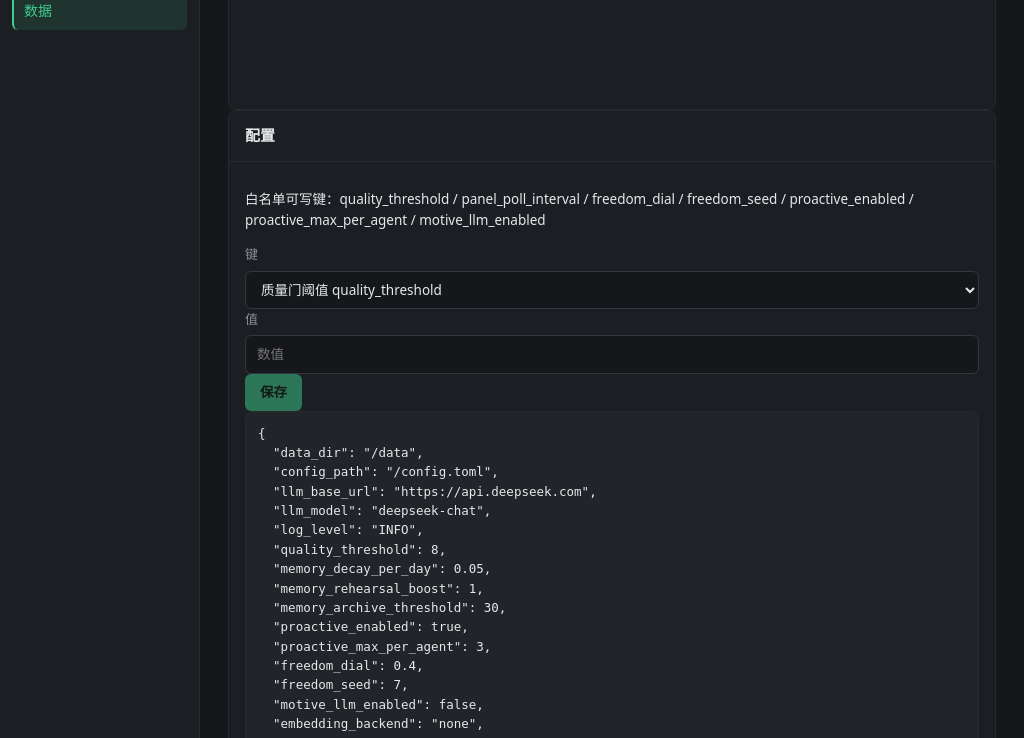
it: data page › saves a whitelisted config key and shows the restart hint
The image size is (1024, 738).
(page scrolled)
Type "9" into the field with placeholder "数值" at {"x": 612, "y": 354}, box [245, 335, 979, 374]
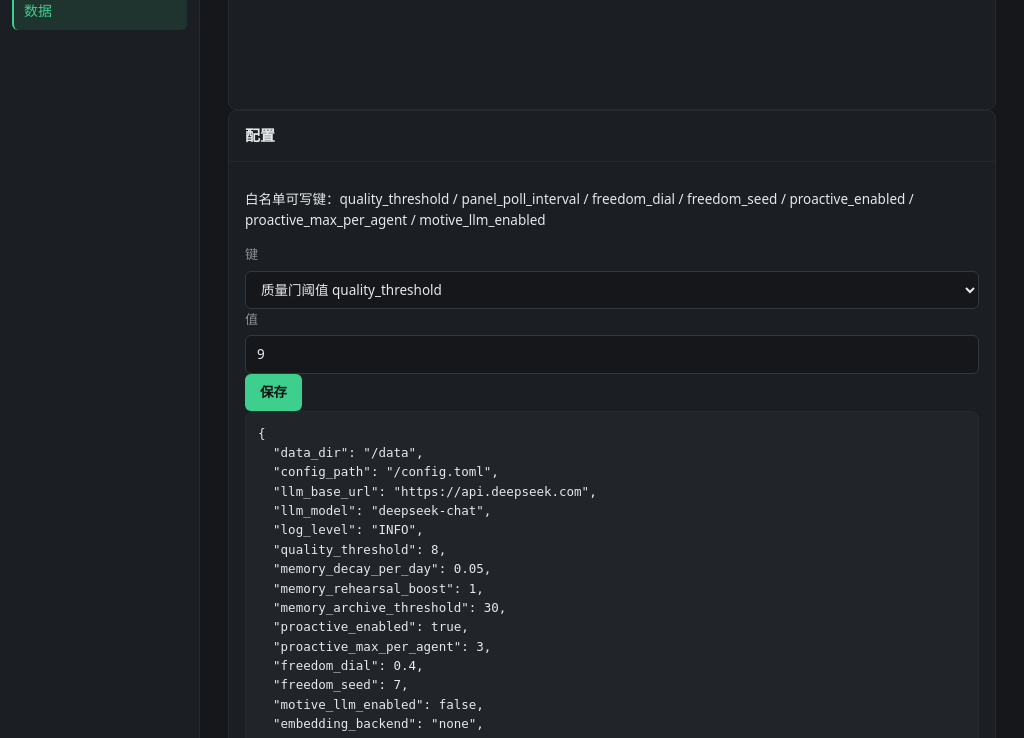
Click the button "保存" at {"x": 274, "y": 392}, box [245, 374, 302, 410]
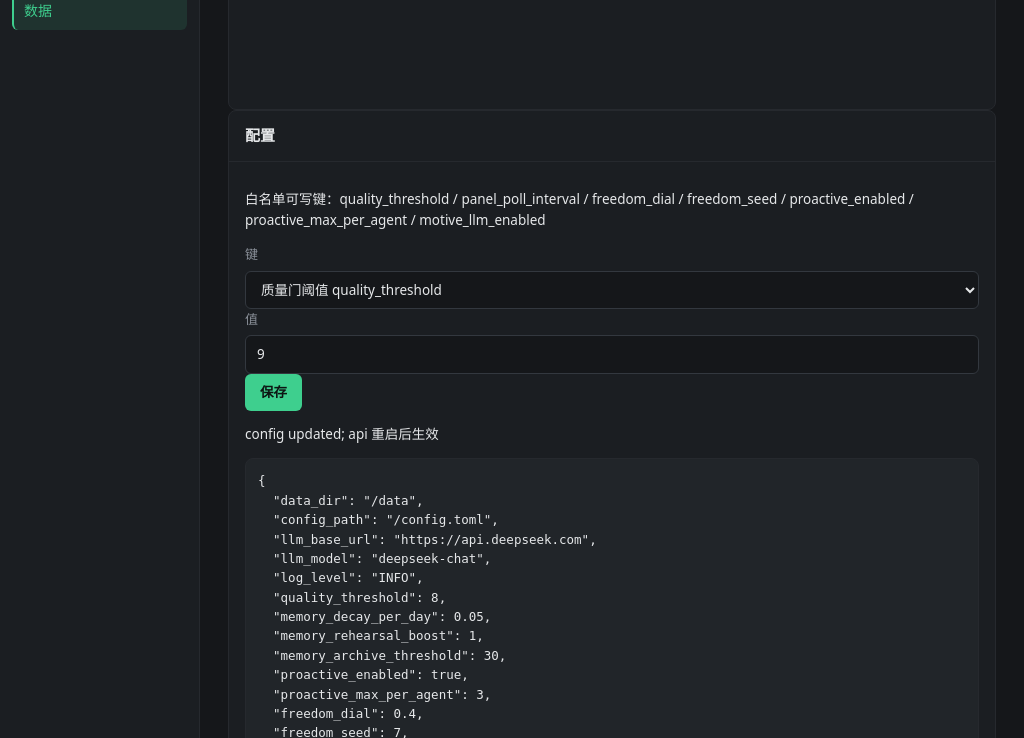
Expected: the message with test id "config-updated" reads "config updated; api 重启后生效", [245, 425, 439, 443]
